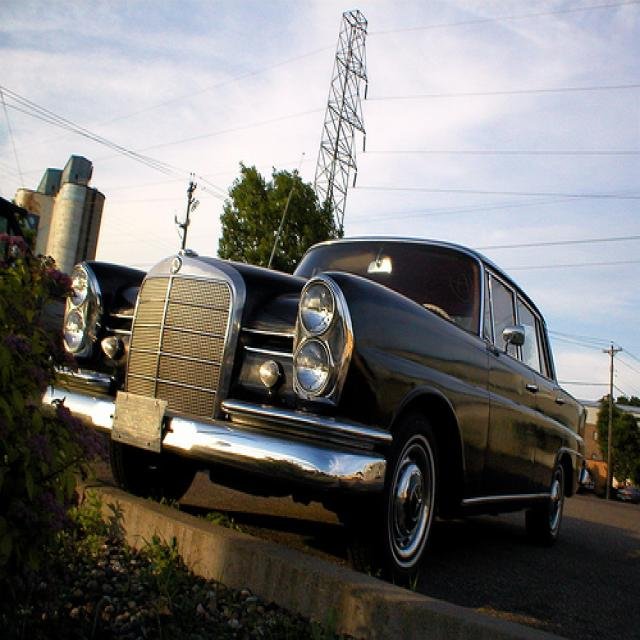Car: (49, 234, 590, 574)
